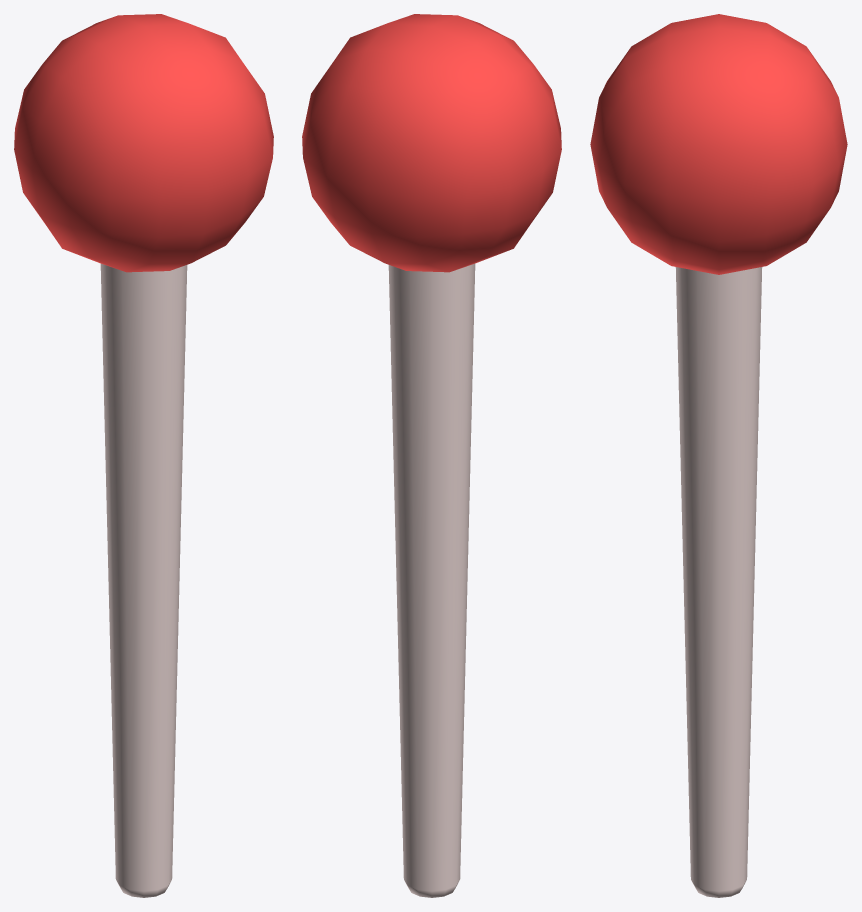
Rendered from Public_19_Needle_2.glb.
3 views of the same model, side by side, from view 1: azimuth 30°, elevation 25°; view 2: azimuth 150°, elevation 25°; view 3: azimuth 270°, elevation 25° (orthographic).
Parts seen in each view (by area): view 1: Public_19_Needle_2; view 2: Public_19_Needle_2; view 3: Public_19_Needle_2.
Boxes of the visible parts, bbox=[...] form: Public_19_Needle_2: bbox=[14, 14, 273, 897]; Public_19_Needle_2: bbox=[302, 14, 561, 897]; Public_19_Needle_2: bbox=[590, 14, 847, 897].
Size of the model in its own units: 0.1604 by 0.5941 by 0.1604.
1 material, 1 textured.
